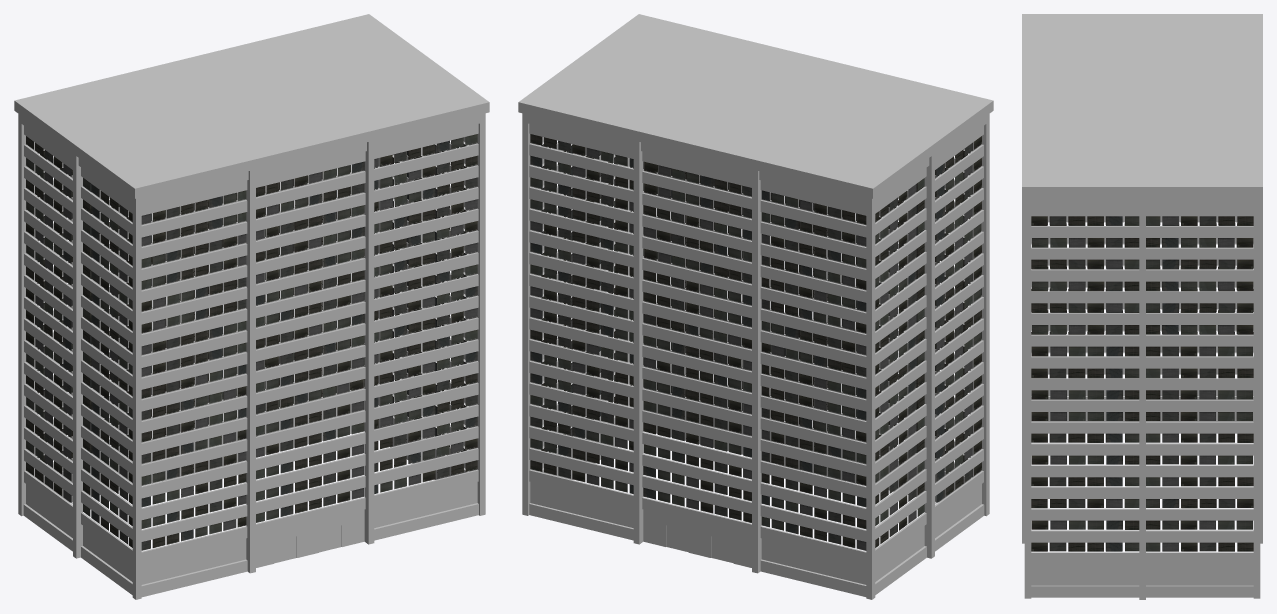
3 renders of one model, left to right at view 1: azimuth 30°, elevation 25°; view 2: azimuth 150°, elevation 25°; view 3: azimuth 270°, elevation 25°, orthographic.
Visible parts, largest first — view 1: BC-020; view 2: BC-020; view 3: BC-020.
Part boxes in pixels (x1,y1,x2,y2): BC-020: [14, 14, 489, 599]; BC-020: [518, 14, 993, 599]; BC-020: [1022, 14, 1262, 599].
Size of what is drawn, in the model's own units: 43.78 by 48.7 by 25.76.
